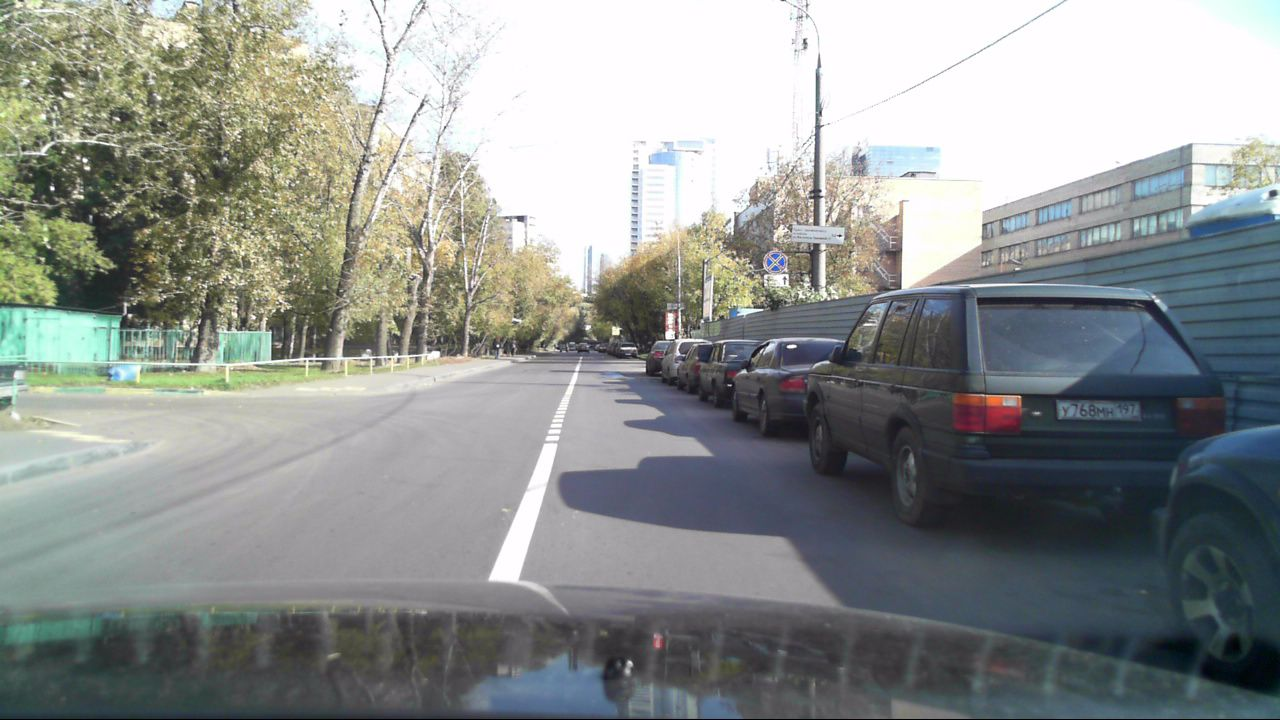No Parking: (761, 249, 790, 274)
